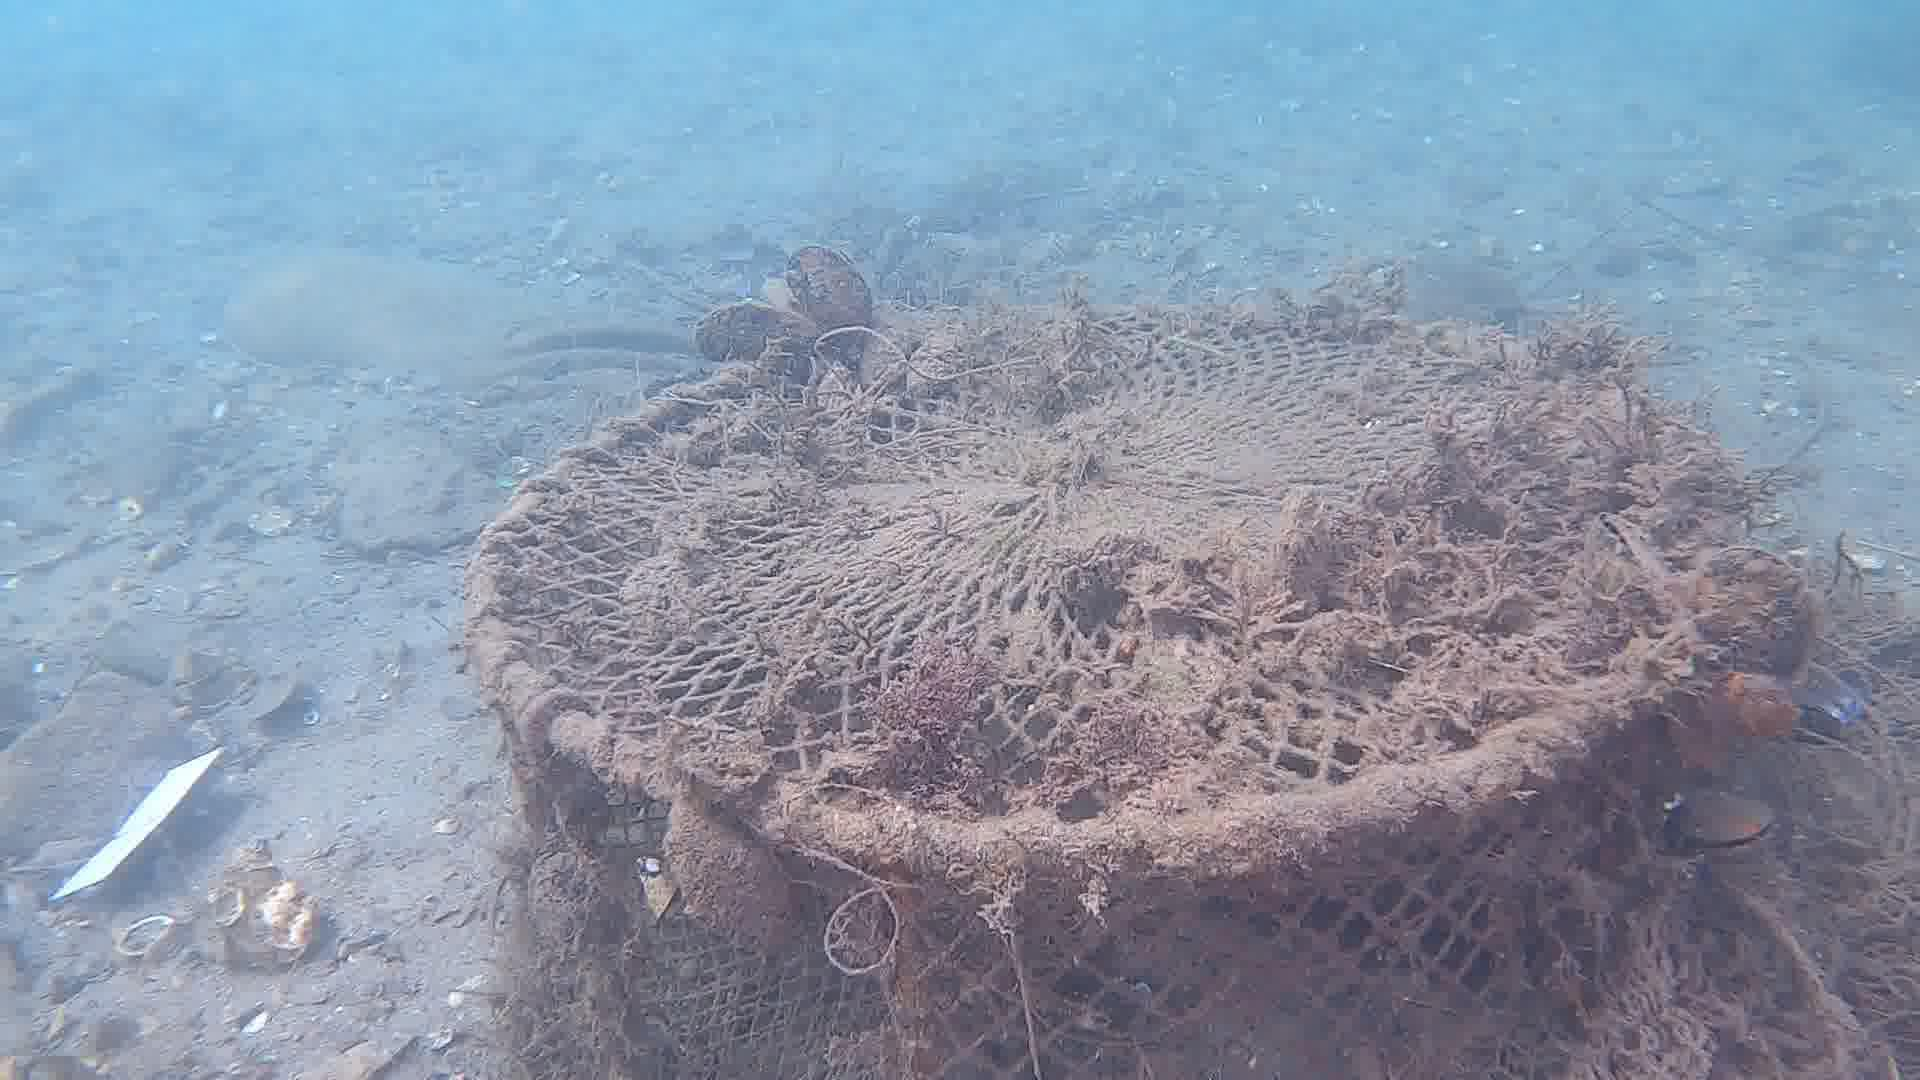circular fish trap: (462, 295, 1718, 1080)
